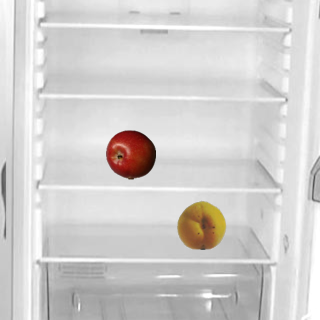Apple Braeburn: (105, 129, 155, 179)
Peach 2: (176, 199, 226, 249)
